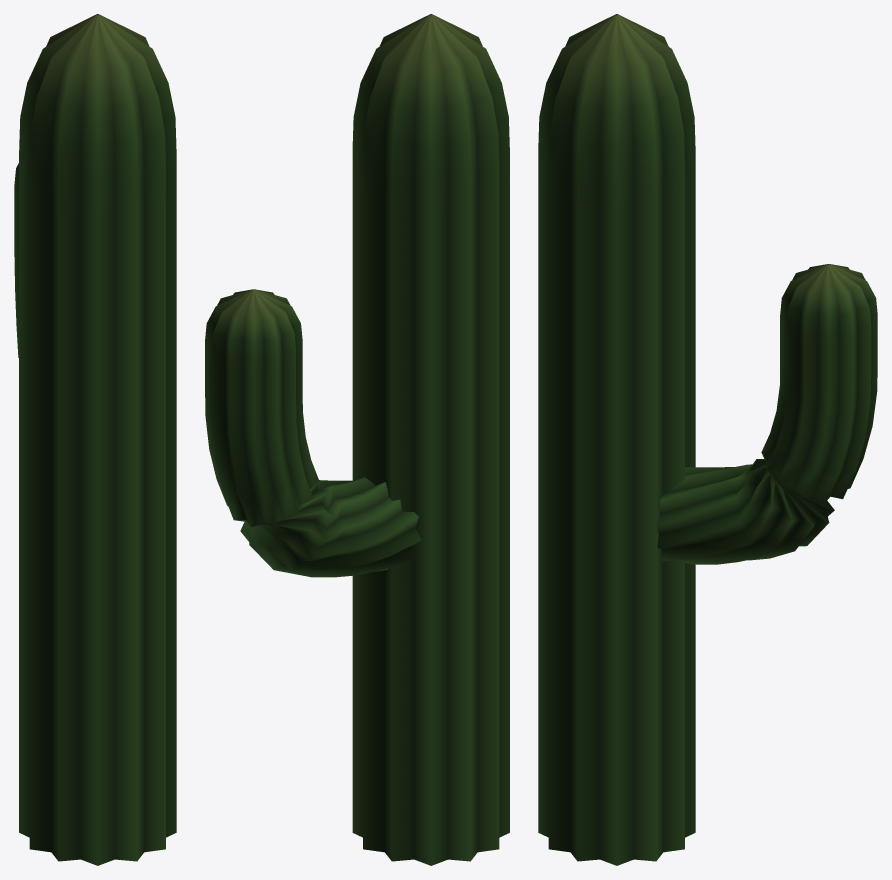
The model's file is cactus_b.glb.
The picture shows the model from 3 angles, left to right: view 1: azimuth 30°, elevation 25°; view 2: azimuth 150°, elevation 25°; view 3: azimuth 270°, elevation 25°; orthographic projection.
Parts seen in each view (by area): view 1: cactus; view 2: cactus; view 3: cactus.
Part boxes in pixels (left/top/right/bottom): cactus: left=14, top=14, right=176, bottom=865; cactus: left=205, top=14, right=509, bottom=865; cactus: left=538, top=14, right=877, bottom=865.
Size of the model in its own units: 0.2326 by 1 by 0.3761.
